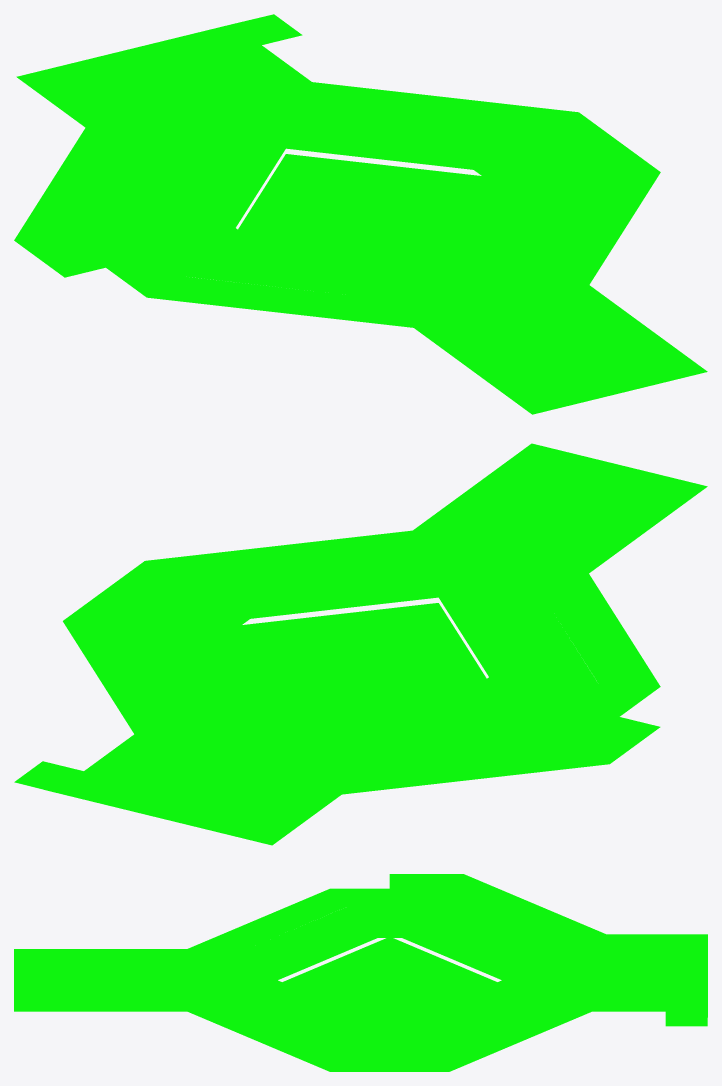
The model's file is s082_sa1-floor.glb.
3 renders of one model, top to bottom at view 1: azimuth 30°, elevation 25°; view 2: azimuth 150°, elevation 25°; view 3: azimuth 270°, elevation 25°, orthographic. The views are drawn at different scales.
Visible parts, largest first — view 1: collision_floor-colonly; view 2: collision_floor-colonly; view 3: collision_floor-colonly.
Boxes of the visible parts, x1,y1,x2,y2 form: collision_floor-colonly: (14,14,707,414); collision_floor-colonly: (14,443,707,845); collision_floor-colonly: (14,874,707,1071).
Bounding box in the file's own units: 22.12 × 0.1992 × 32.8.
